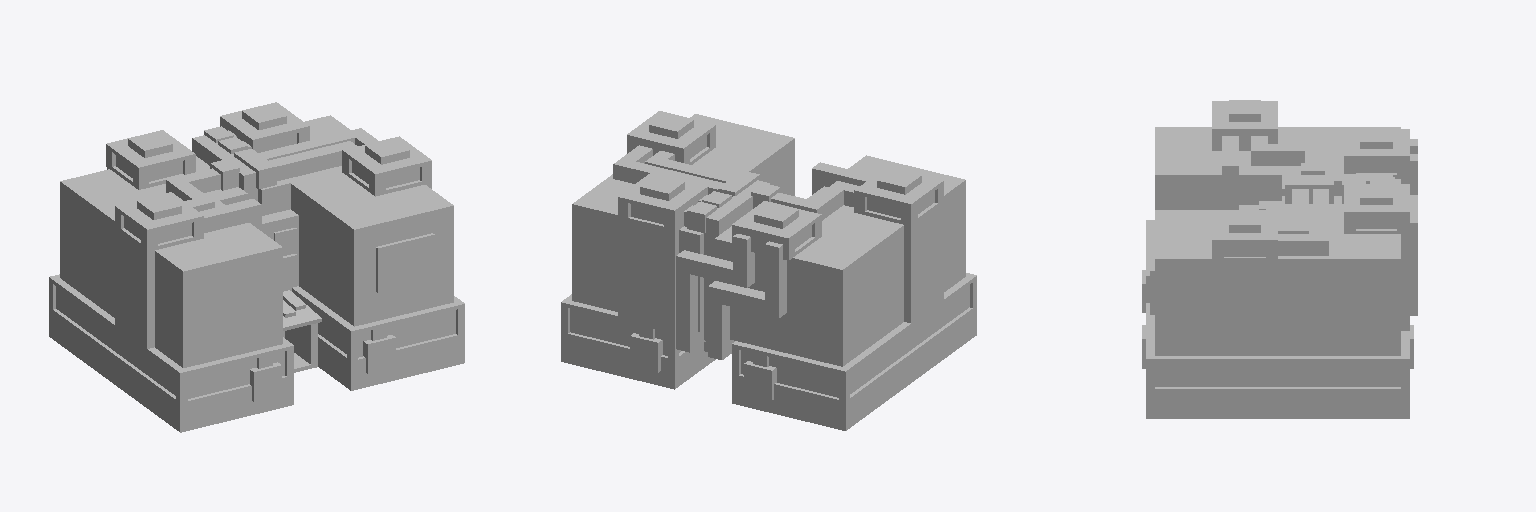
File: fluid_battery.obj
The picture shows the model from 3 angles: view 1: azimuth 30°, elevation 25°; view 2: azimuth 150°, elevation 25°; view 3: azimuth 270°, elevation 25°; orthographic projection.
Parts seen in each view (by area): view 1: Tank.000, Tank, BoxBaseLower2, BoxBaseMid, BoxBaseLower, Sign, BoxBaseMid2, BoxInput, BoxBaseTop, PowerPlug.023, BoxBaseTop2, cube.000 (+25 smaller); view 2: Tank.000, Tank, BoxBaseLower2, cube.005, BoxBaseMid, BoxBaseLower, BoxInput, BoxBaseTop, BoxBaseMid2, Plate, PowerPlug.004, cube.000 (+26 smaller); view 3: Tank, Tank.000, BoxBaseLower, BoxBaseMid2, BoxBaseTop2, cube.004, top.002, top.001, top.000, top, PowerPlug.024, PowerPlug.015 (+14 smaller).
Part boxes in pixels (bbox=[...]): Tank.000: bbox=[60, 169, 282, 367]; Tank: bbox=[286, 115, 453, 326]; BoxBaseLower2: bbox=[49, 307, 293, 432]; BoxBaseMid: bbox=[56, 286, 284, 398]; BoxBaseLower: bbox=[318, 334, 464, 390]; Sign: bbox=[376, 233, 434, 292]; BoxBaseMid2: bbox=[295, 294, 455, 357]; BoxInput: bbox=[115, 266, 154, 348]; BoxBaseTop: bbox=[49, 274, 293, 376]; PowerPlug.023: bbox=[269, 141, 357, 180]; BoxBaseTop2: bbox=[292, 286, 464, 334]; cube.000: bbox=[115, 229, 154, 288]; Tank.000: bbox=[743, 155, 965, 366]; Tank: bbox=[572, 114, 794, 311]; BoxBaseLower2: bbox=[732, 306, 976, 430]; cube.005: bbox=[618, 219, 678, 329]; BoxBaseMid: bbox=[741, 285, 969, 397]; BoxBaseLower: bbox=[561, 332, 715, 389]; BoxInput: bbox=[904, 240, 943, 323]; BoxBaseTop: bbox=[732, 273, 976, 374]; BoxBaseMid2: bbox=[570, 308, 680, 355]; Plate: bbox=[704, 180, 769, 340]; PowerPlug.004: bbox=[676, 250, 697, 337]; cube.000: bbox=[904, 203, 943, 263]; Tank: bbox=[1155, 210, 1400, 355]; Tank.000: bbox=[1155, 127, 1400, 209]; BoxBaseLower: bbox=[1146, 387, 1409, 418]; BoxBaseMid2: bbox=[1155, 363, 1400, 386]; BoxBaseTop2: bbox=[1146, 303, 1409, 362]; cube.004: bbox=[1212, 262, 1277, 298]; top.002: bbox=[1212, 212, 1277, 243]; top.001: bbox=[1344, 184, 1409, 215]; top.000: bbox=[1344, 129, 1409, 159]; top: bbox=[1212, 101, 1277, 131]; PowerPlug.024: bbox=[1313, 189, 1328, 255]; PowerPlug.015: bbox=[1268, 144, 1320, 165].
Size of the model in its own units: 5 by 3.12 by 4.19.